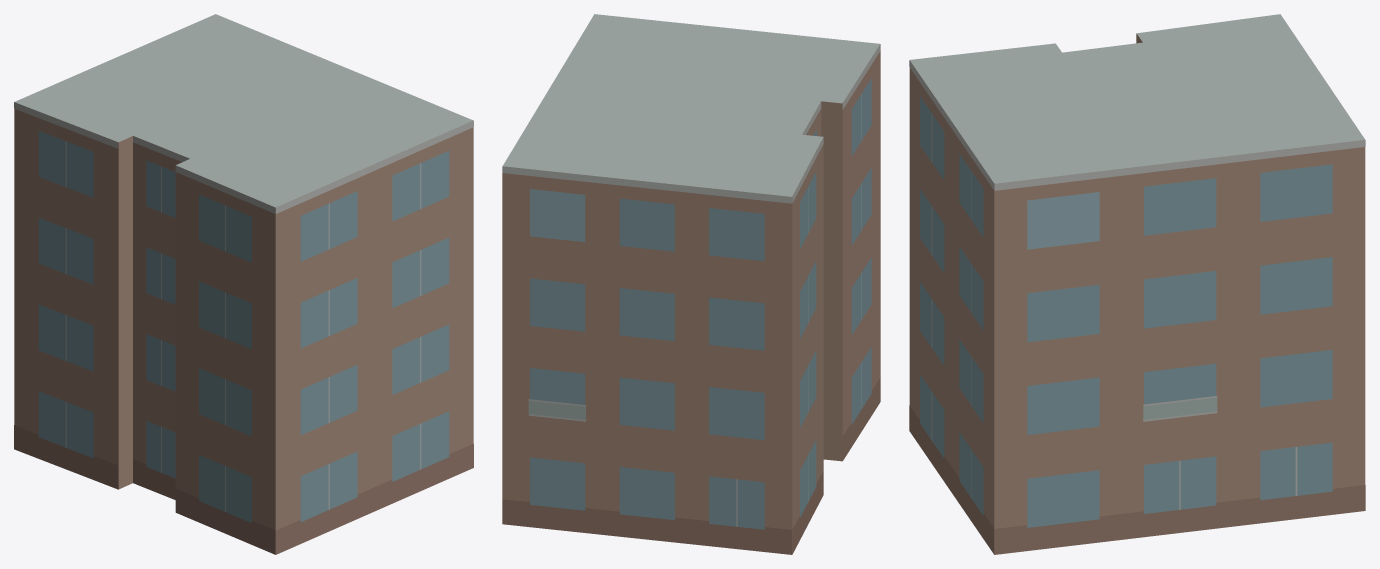
Rendered from survey-upis-32851517.glb.
The picture shows the model from 3 angles, left to right: view 1: azimuth 30°, elevation 25°; view 2: azimuth 150°, elevation 25°; view 3: azimuth 270°, elevation 25°; orthographic projection. The views are drawn at different scales.
Parts seen in each view (by area): view 1: survey-upis-32851517.tmp; view 2: survey-upis-32851517.tmp; view 3: survey-upis-32851517.tmp.
Boxes of the visible parts, x1,y1,x2,y2 form: survey-upis-32851517.tmp: (14, 14, 473, 554); survey-upis-32851517.tmp: (502, 14, 880, 554); survey-upis-32851517.tmp: (909, 14, 1365, 554).
Bounding box in the file's own units: 12.68 × 12.9 × 14.38.
